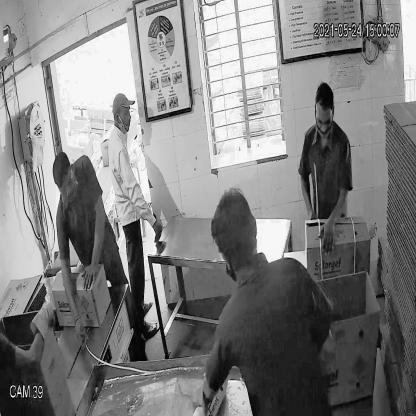goggles: (54, 171, 76, 195)
